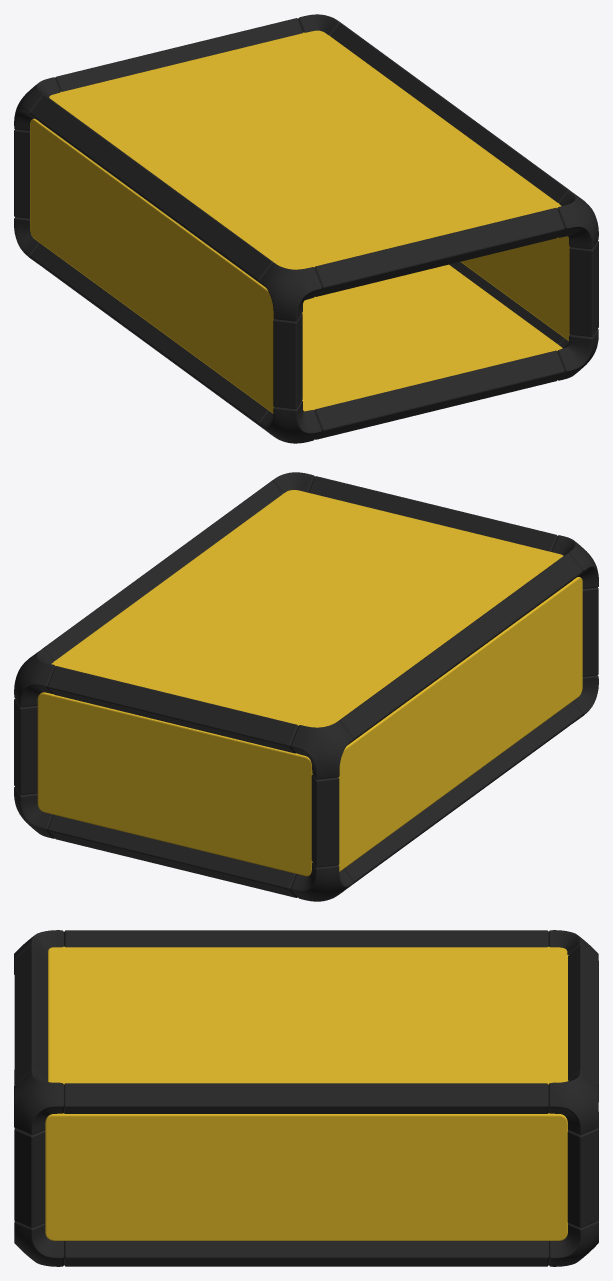
The picture shows the model from 3 angles, top to bottom: view 1: azimuth 30°, elevation 25°; view 2: azimuth 150°, elevation 25°; view 3: azimuth 270°, elevation 25°; orthographic projection. The views are drawn at different scales.
Visible parts, largest first — view 1: 229x374x79; view 2: 229x374x79; view 3: 229x374x79.
Boxes of the visible parts, x1,y1,x2,y2 form: 229x374x79: (14,14,598,443); 229x374x79: (14,472,598,901); 229x374x79: (14,930,598,1266).
Bounding box in the file's own units: 0.3067 × 0.1566 × 0.4513.
